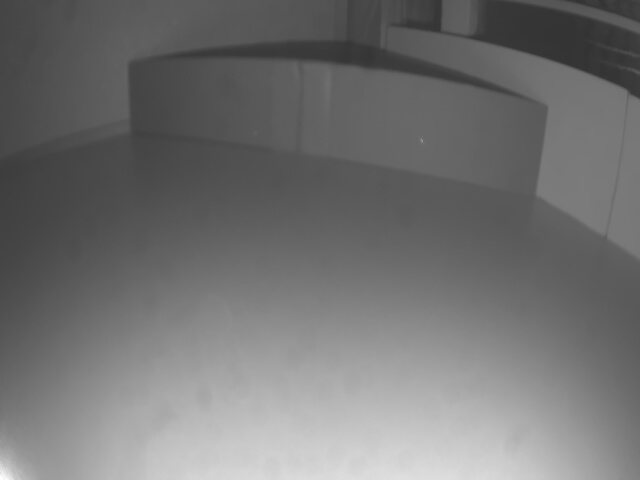Point: (121, 56, 547, 197)
